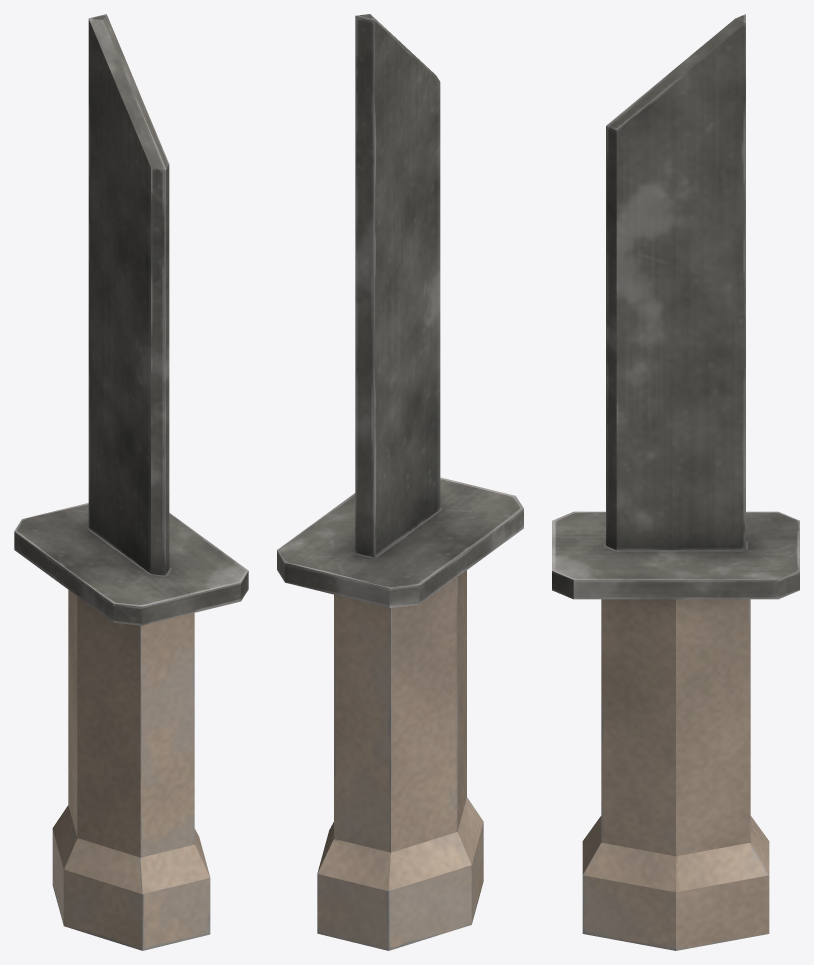
The model's file is knifeRound_sharp.glb.
3 views of the same model, side by side, from view 1: azimuth 30°, elevation 25°; view 2: azimuth 150°, elevation 25°; view 3: azimuth 270°, elevation 25° (orthographic). The views are drawn at different scales.
Visible parts, largest first — view 1: knifeRound_sharp; view 2: knifeRound_sharp; view 3: knifeRound_sharp.
Boxes of the visible parts, x1=… form: knifeRound_sharp: x1=14, y1=14, x2=248, y2=950; knifeRound_sharp: x1=277, y1=14, x2=523, y2=950; knifeRound_sharp: x1=552, y1=14, x2=799, y2=950.
Size of the model in its own units: 0.0574 by 0.3522 by 0.088.
Materials: 1 (1 with a texture image).
